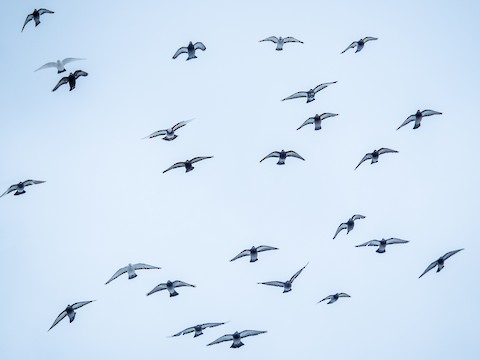pigeon: (414, 245, 468, 283), (204, 326, 269, 352), (255, 262, 309, 293), (44, 299, 92, 330), (104, 259, 163, 284), (275, 79, 334, 103), (395, 106, 445, 133), (229, 241, 280, 266), (354, 145, 401, 171), (257, 29, 305, 54), (144, 277, 198, 299), (173, 317, 227, 339), (354, 234, 410, 255), (143, 119, 190, 144), (29, 53, 85, 73), (328, 211, 366, 240), (160, 154, 212, 175), (18, 4, 55, 32), (295, 110, 338, 134), (49, 70, 91, 94), (259, 147, 307, 167), (170, 39, 208, 64), (340, 34, 381, 57), (3, 176, 50, 196), (317, 291, 354, 305)
